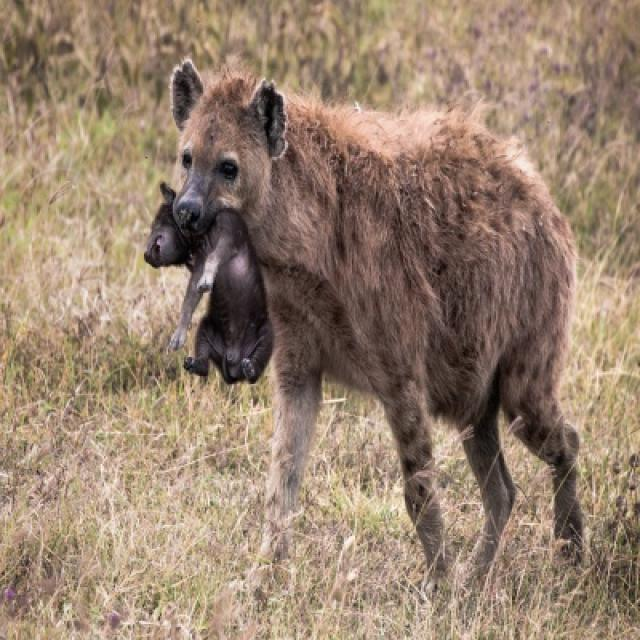hyena: (172, 48, 583, 610)
